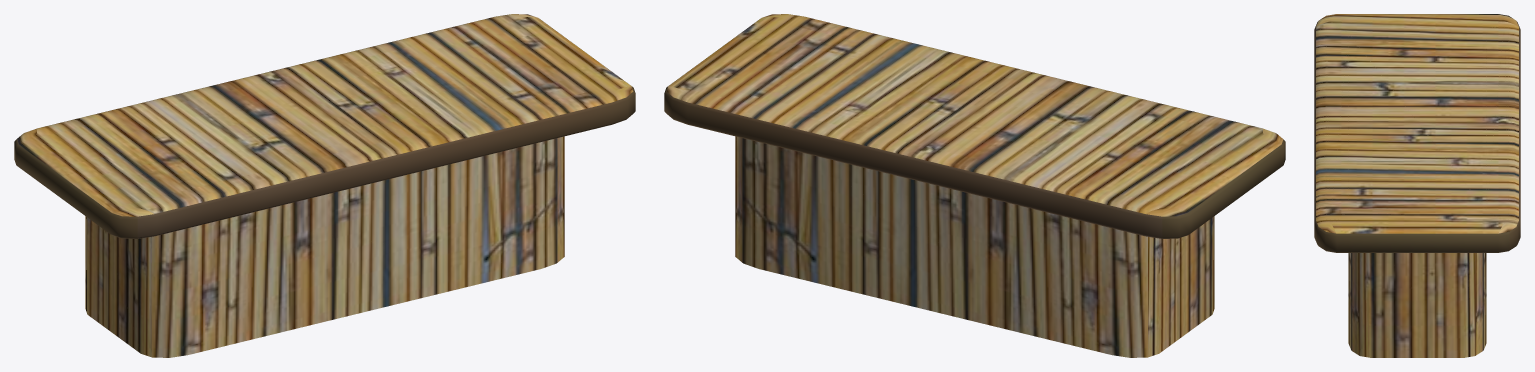
The model's file is BeachBar.glb.
3 renders of one model, left to right at view 1: azimuth 30°, elevation 25°; view 2: azimuth 150°, elevation 25°; view 3: azimuth 270°, elevation 25°, orthographic. The views are drawn at different scales.
Visible parts, largest first — view 1: BeachBar; view 2: BeachBar; view 3: BeachBar.
Part boxes in pixels (<box>): BeachBar: <box>14,14,635,357</box>; BeachBar: <box>664,14,1285,357</box>; BeachBar: <box>1314,14,1520,357</box>.
Size of the model in its own units: 3.77 by 1.16 by 1.48.
1 material, 1 textured.
